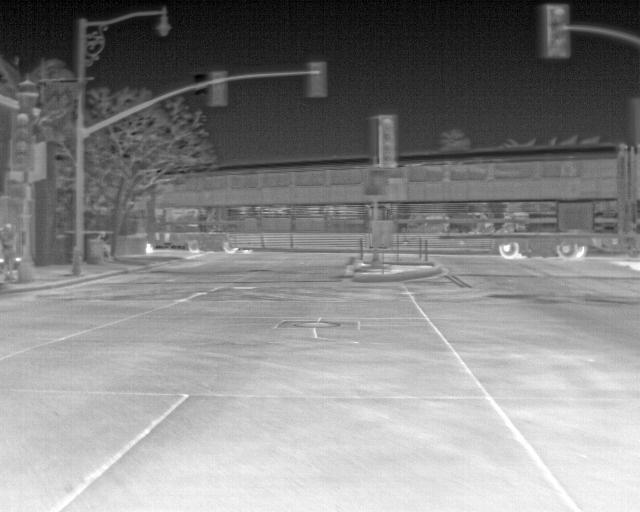empty: (0, 222, 16, 280)
